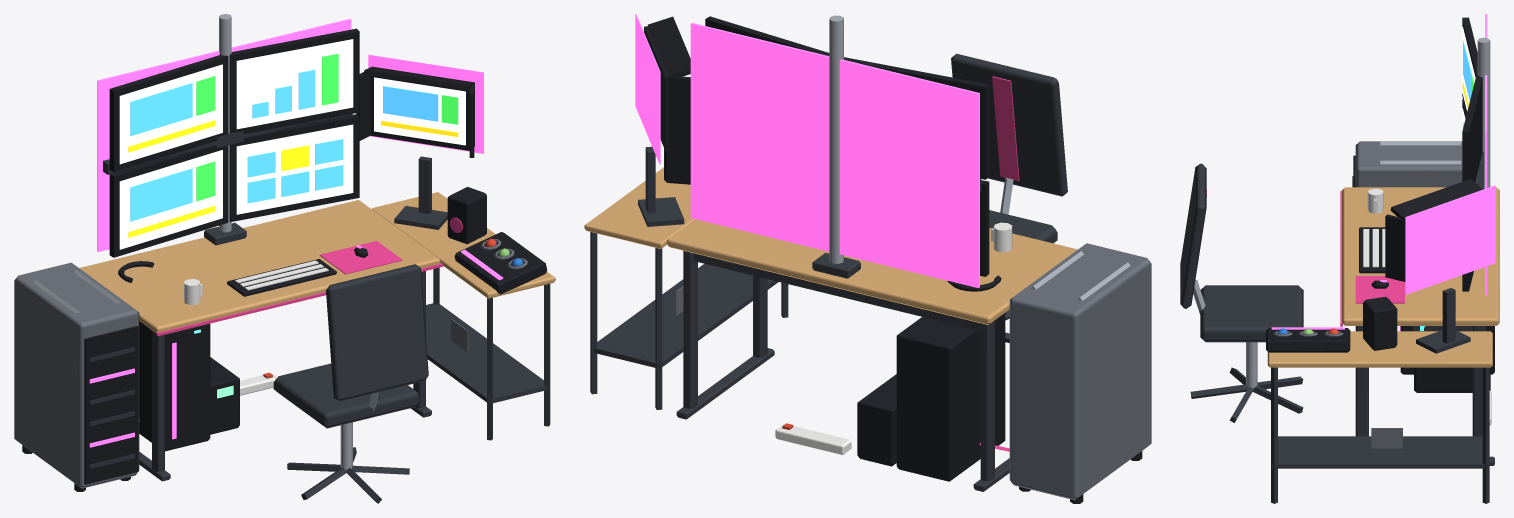
Rendered from station_processing_3.glb.
The picture shows the model from 3 angles, left to right: view 1: azimuth 30°, elevation 25°; view 2: azimuth 150°, elevation 25°; view 3: azimuth 270°, elevation 25°; orthographic projection. The views are drawn at different scales.
Visible parts, largest first — view 1: station_processing_3; view 2: station_processing_3; view 3: station_processing_3.
Boxes of the visible parts, left/top/right/bottom form: station_processing_3: left=14, top=14, right=555, bottom=503; station_processing_3: left=584, top=14, right=1151, bottom=503; station_processing_3: left=1180, top=14, right=1499, bottom=503.
Bounding box in the file's own units: 2.11 × 1.78 × 1.42.
